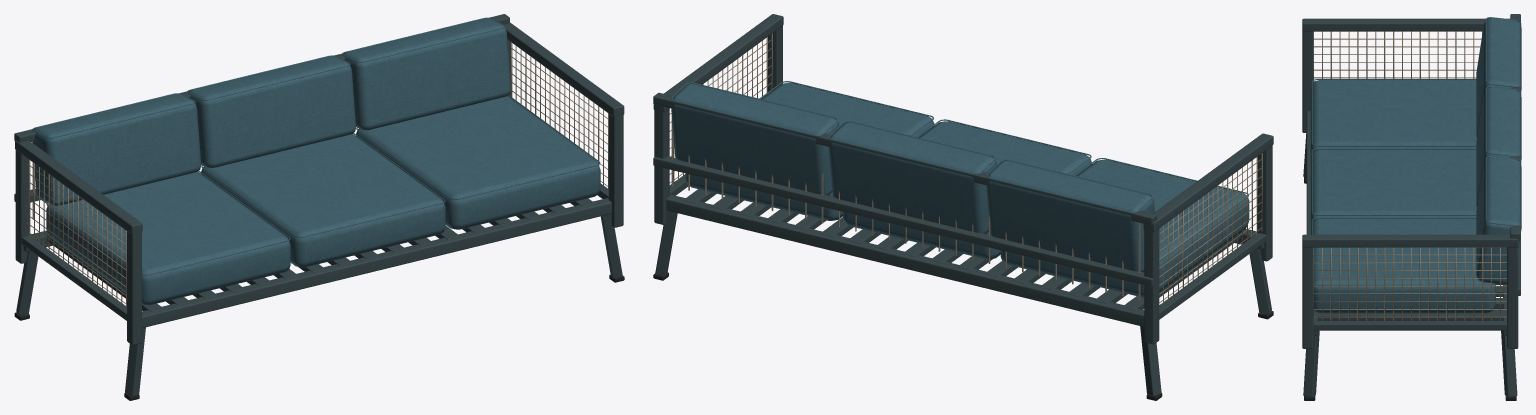
Rendered from outdoor-aluminium-sofa.glb.
3 renders of one model, left to right at view 1: azimuth 30°, elevation 25°; view 2: azimuth 150°, elevation 25°; view 3: azimuth 270°, elevation 25°, orthographic. The views are drawn at different scales.
Parts seen in each view (by area): view 1: outdoor-aluminium-sofa authored assembly; view 2: outdoor-aluminium-sofa authored assembly; view 3: outdoor-aluminium-sofa authored assembly.
Boxes of the visible parts, box(x1,y1,x2,y2) form: outdoor-aluminium-sofa authored assembly: box(14, 14, 624, 400); outdoor-aluminium-sofa authored assembly: box(653, 14, 1273, 400); outdoor-aluminium-sofa authored assembly: box(1302, 14, 1521, 400).
Bounding box in the file's own units: 2.16 × 0.78 × 0.9.
4 materials, 2 textured.
